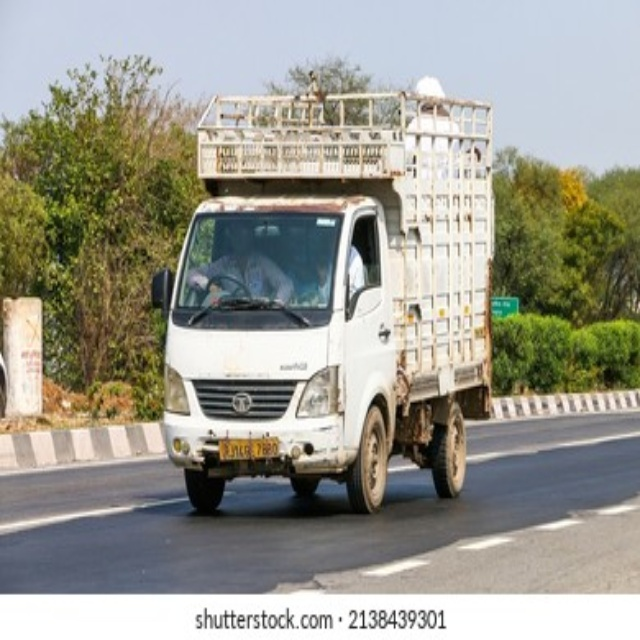Truck: (149, 89, 492, 514)
